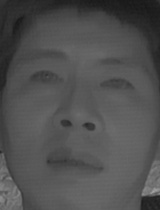eye: (99, 72, 138, 94), (26, 68, 64, 90)
mouth: (43, 147, 106, 182)
